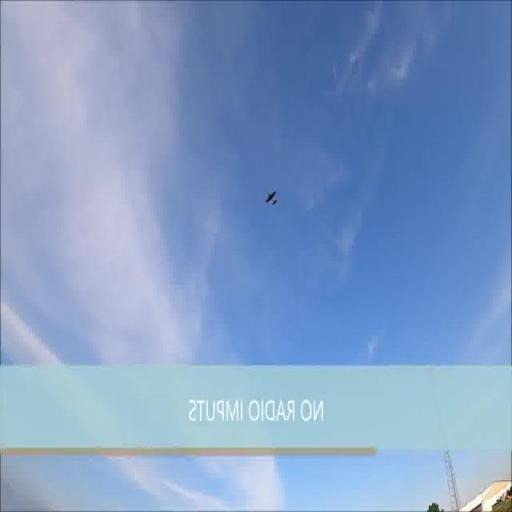uav: (262, 182, 282, 218)
